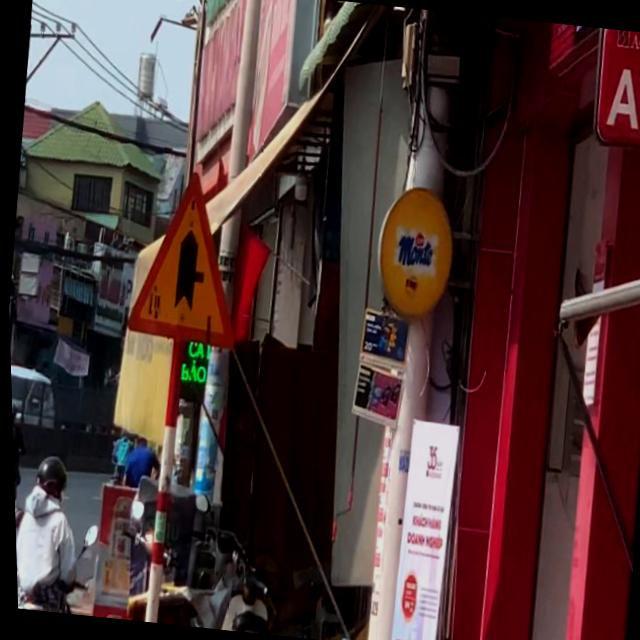Giao nhau voi duong khong uu tien ben phai: (117, 165, 250, 353)
